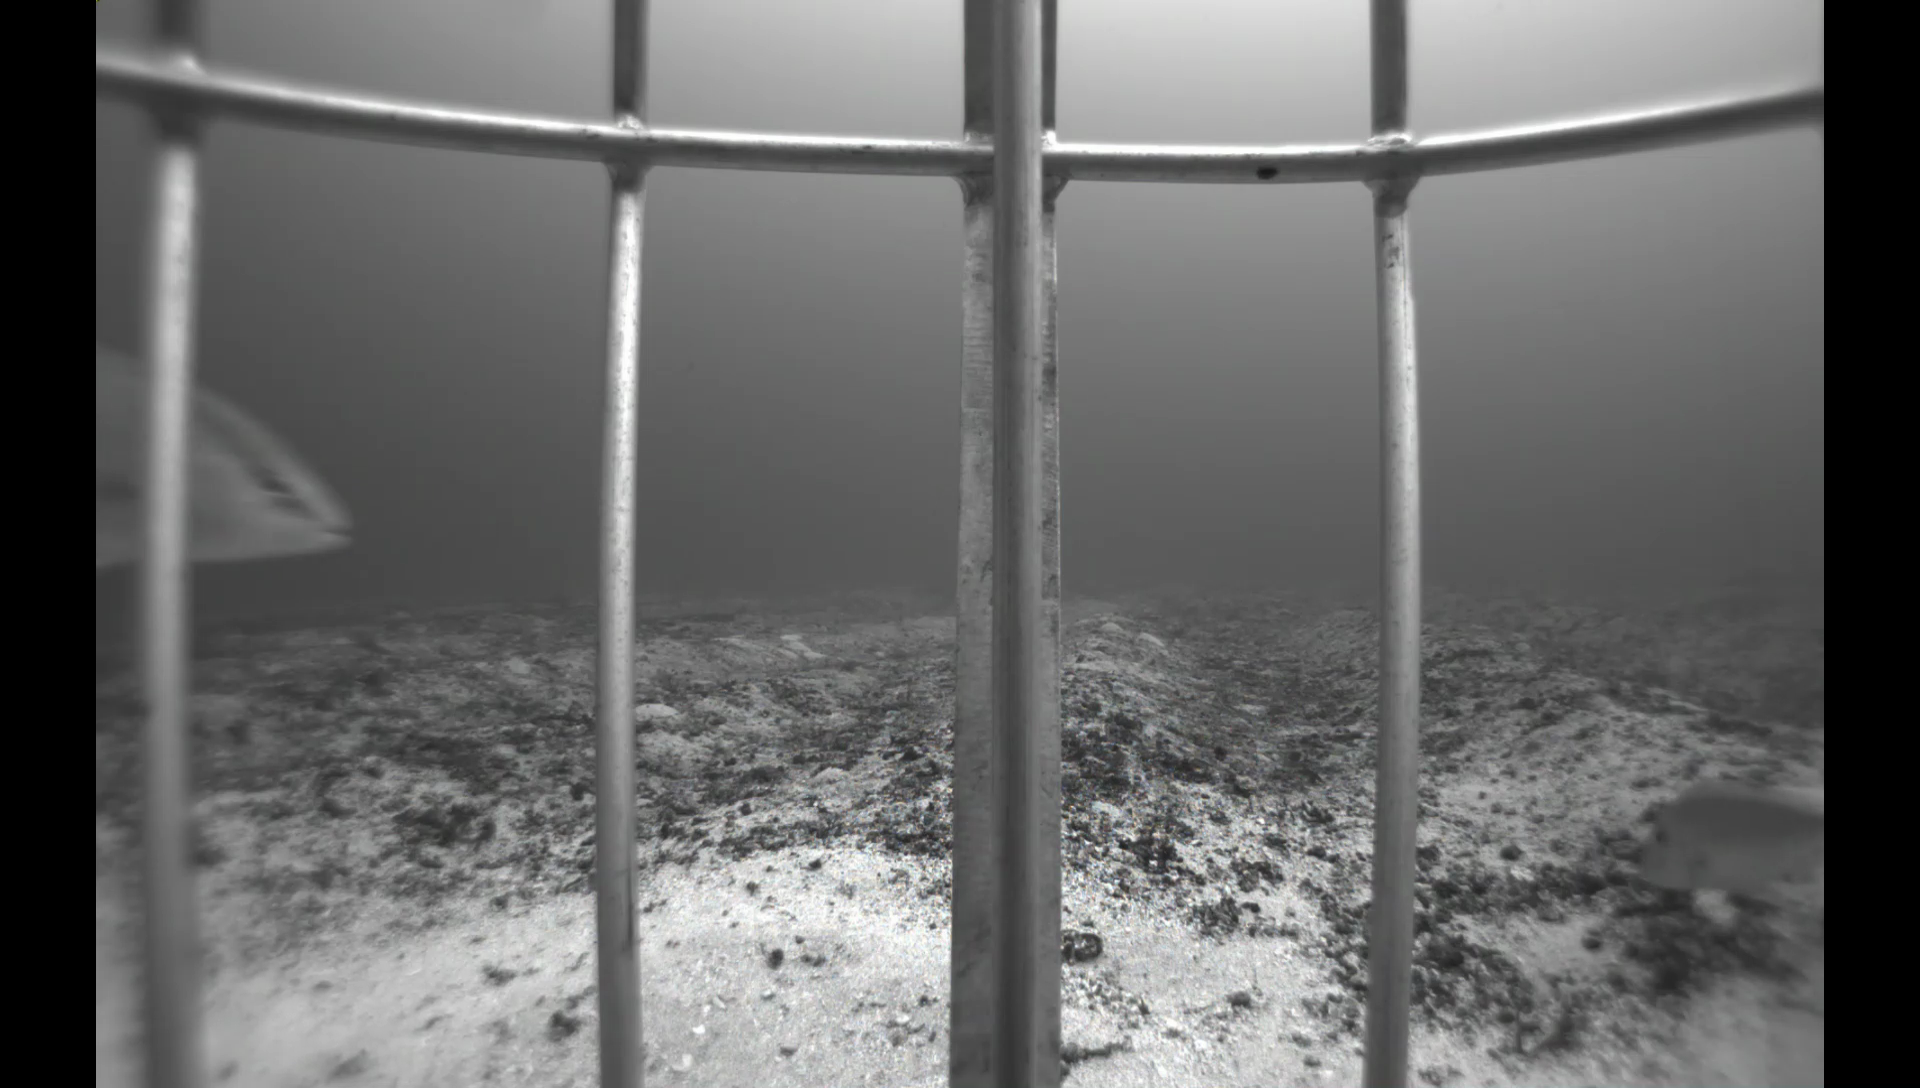CALAMUSPRORIDENS-170210605: (1615, 786, 1825, 903)
SERIOLARIVOLIANA-170113105: (98, 323, 375, 589)
